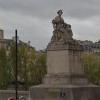Statue: (44, 5, 92, 54)
